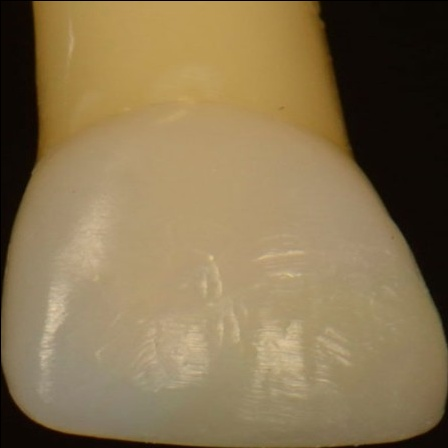coin_1: (348, 156, 368, 176)
coin_2: (389, 216, 409, 236)
coin_3: (43, 157, 63, 177)
coin_4: (13, 234, 33, 254)
